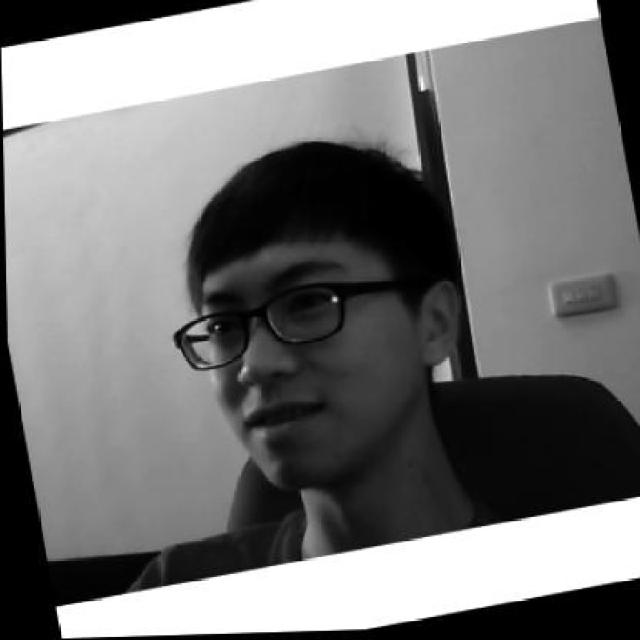attentif: (141, 119, 485, 512)
